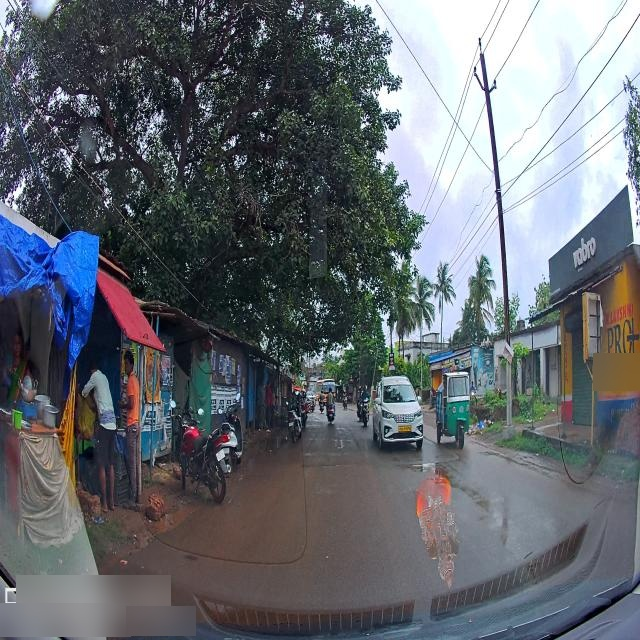pothole: (466, 488, 518, 531), (416, 456, 454, 483)
